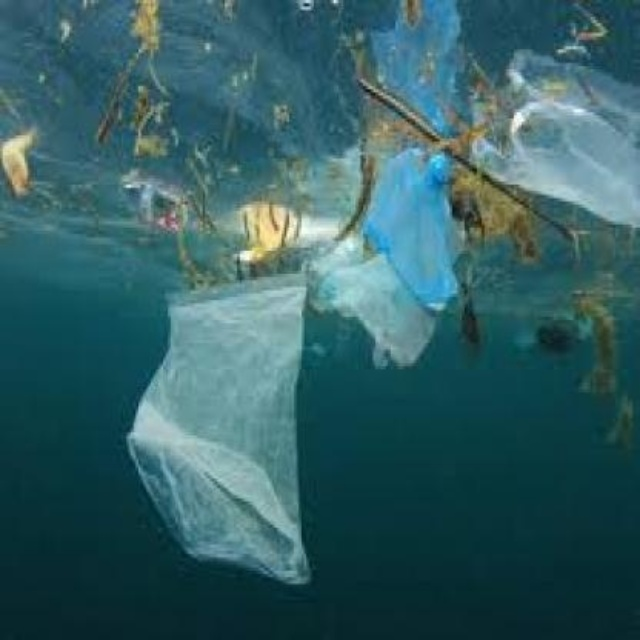trash: (128, 274, 309, 583)
